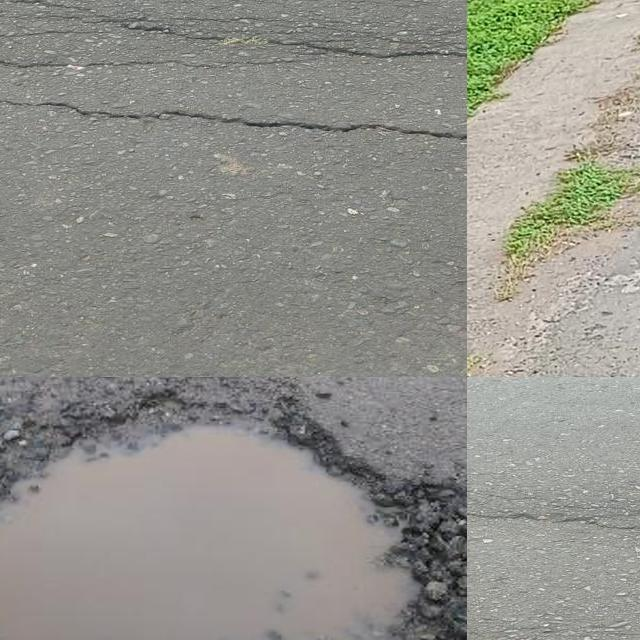Lubang: (0, 392, 467, 640)
Melintang: (0, 0, 467, 66), (0, 89, 467, 150)
